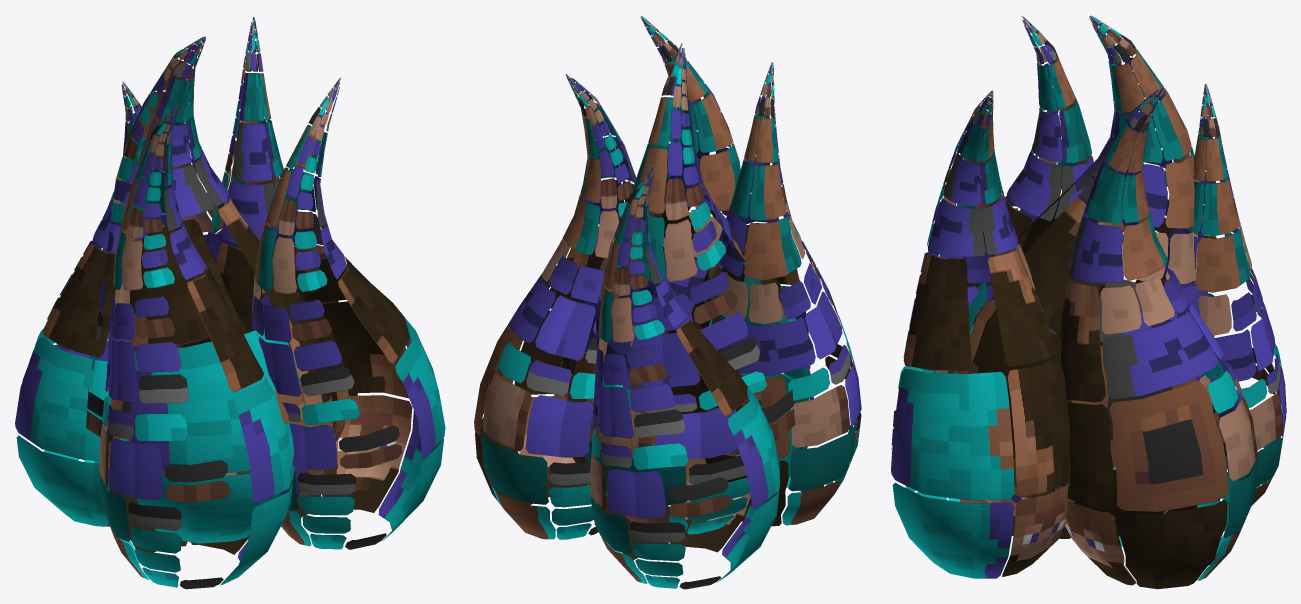
The picture shows the model from 3 angles, left to right: view 1: azimuth 30°, elevation 25°; view 2: azimuth 150°, elevation 25°; view 3: azimuth 270°, elevation 25°; orthographic projection. The views are drawn at different scales.
Parts seen in each view (by area): view 1: flame_NurbsPath.015; view 2: flame_NurbsPath.015; view 3: flame_NurbsPath.015.
Part boxes in pixels (x1,y1,x2,y2): flame_NurbsPath.015: [15, 17, 445, 589]; flame_NurbsPath.015: [474, 16, 861, 589]; flame_NurbsPath.015: [891, 15, 1286, 589].
Bounding box in the file's own units: 0.7552 × 1.15 × 0.7979.
